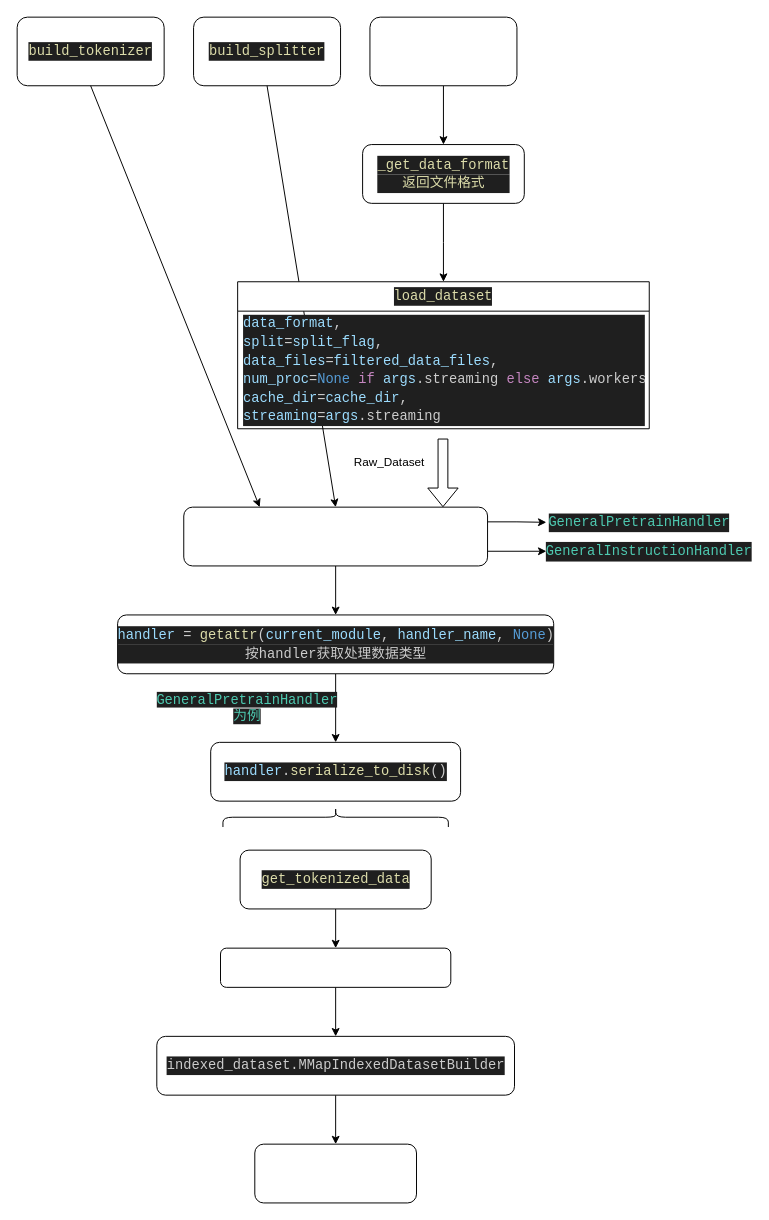
Image size: 769x1220. Some labels were removed from this diagram. The shapes that lost their labels are listed below. From the top down, each one's centre as x and y in pixels, then its label:
point (443, 51): build_dataset
point (335, 536): get_dataset_handler
point (335, 967): _filter 包含了tokenizer和splitter
point (335, 1173): 转为bytes和对应offset
